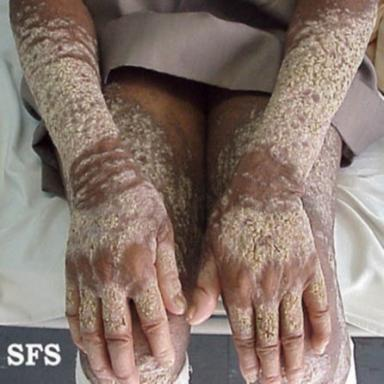Darier_s-Disease: (12, 0, 146, 210), (250, 0, 379, 179), (105, 81, 206, 295), (66, 183, 187, 314), (209, 171, 314, 278), (227, 261, 327, 341), (65, 274, 164, 334), (303, 126, 341, 277), (302, 287, 350, 383), (217, 110, 262, 196)
